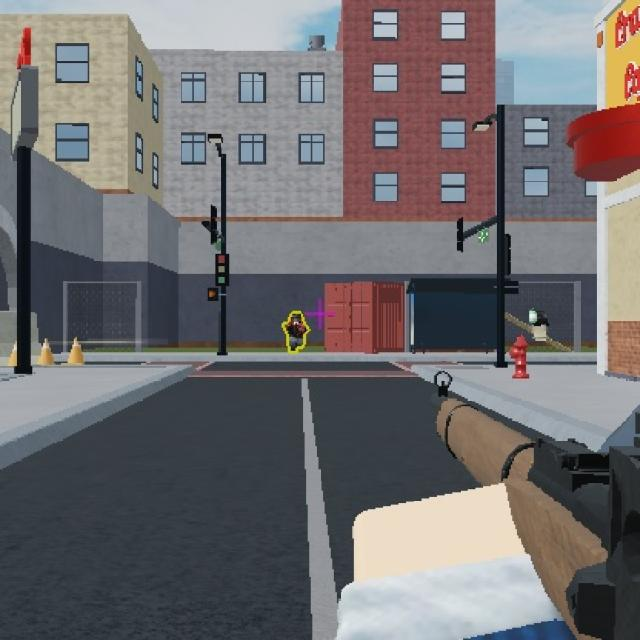player: (280, 308, 310, 360)
